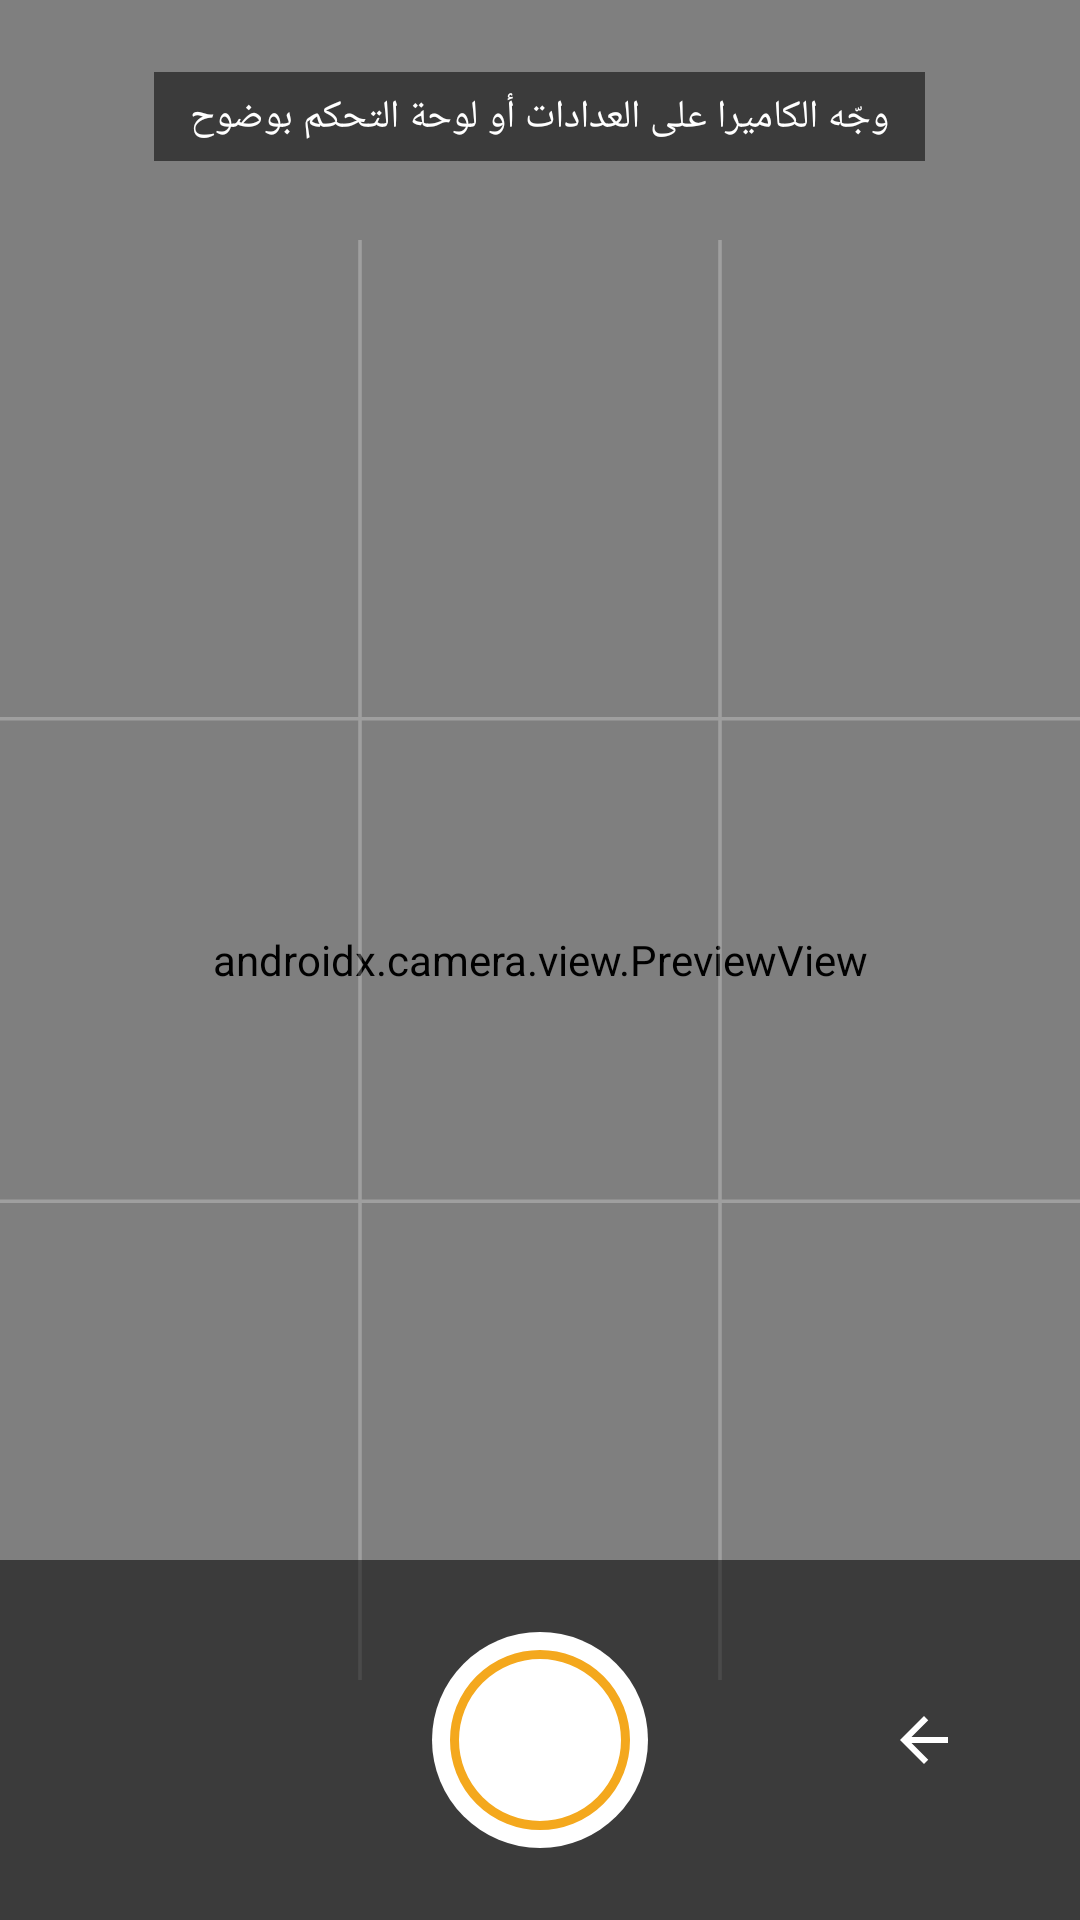

Icon bounding boxes for this 1080×1920 phone screenshot, format (x1, y1, x2, y2):
التقاط: (432, 1632, 648, 1848)
رجوع: (900, 1716, 948, 1764)
